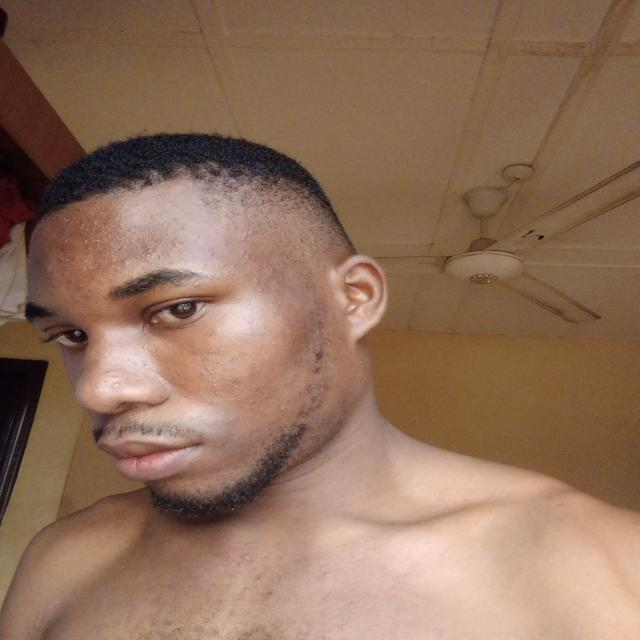Acne: (80, 242, 122, 255), (105, 372, 124, 391), (62, 207, 82, 224), (54, 230, 68, 252), (263, 264, 285, 277), (248, 276, 264, 293), (98, 226, 120, 238), (237, 227, 256, 240), (241, 248, 251, 272), (76, 220, 92, 233), (75, 265, 96, 273), (99, 255, 117, 263), (196, 364, 210, 374), (55, 255, 70, 264), (88, 210, 109, 216), (91, 236, 102, 244), (75, 282, 85, 290), (274, 289, 283, 297), (206, 250, 218, 256), (105, 275, 115, 281), (214, 441, 224, 447), (191, 282, 202, 287), (221, 240, 227, 247)
Blackheads: (127, 222, 178, 262)
Englarged-Pores: (192, 362, 238, 399)
